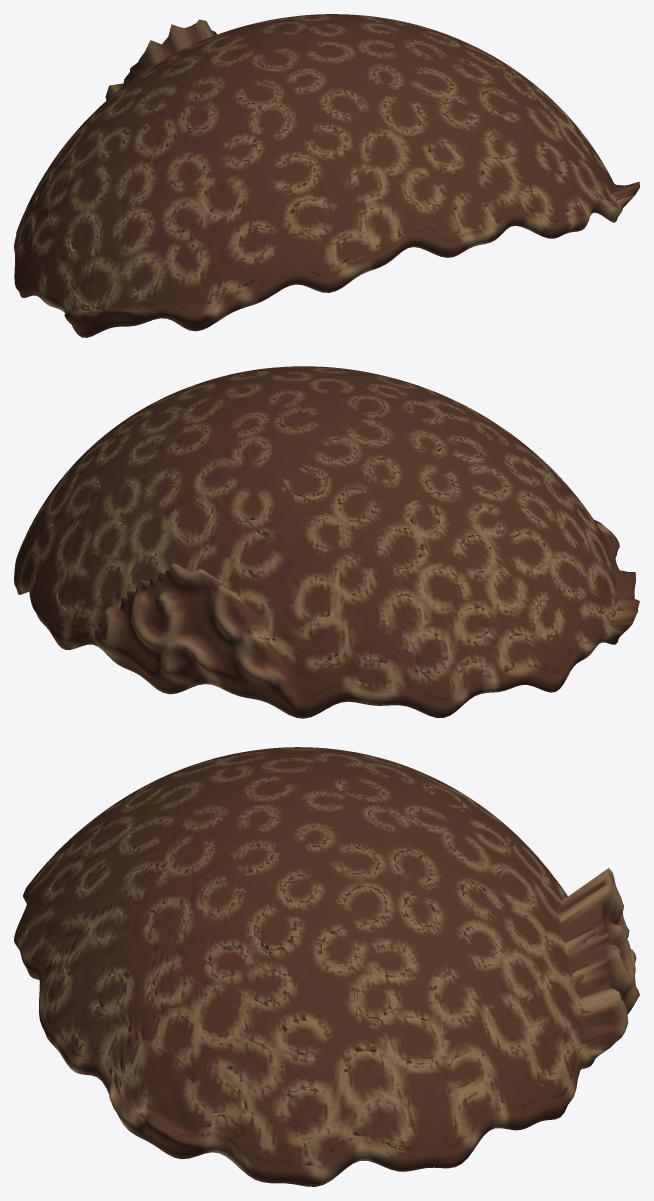
File: Highlights-c141a6833ebb251-hair.glb
3 views of the same model, one above another, from view 1: azimuth 30°, elevation 25°; view 2: azimuth 150°, elevation 25°; view 3: azimuth 270°, elevation 25° (orthographic). The views are drawn at different scales.
Parts seen in each view (by area): view 1: 226 hair / Hair / sculpted afro251.001; view 2: 226 hair / Hair / sculpted afro251.001; view 3: 226 hair / Hair / sculpted afro251.001.
Part boxes in pixels (left/top/right/bottom): 226 hair / Hair / sculpted afro251.001: left=14, top=14, right=639, bottom=337; 226 hair / Hair / sculpted afro251.001: left=14, top=366, right=639, bottom=718; 226 hair / Hair / sculpted afro251.001: left=14, top=747, right=639, bottom=1186.
Bounding box in the file's own units: 0.9562 × 0.3457 × 0.788.
